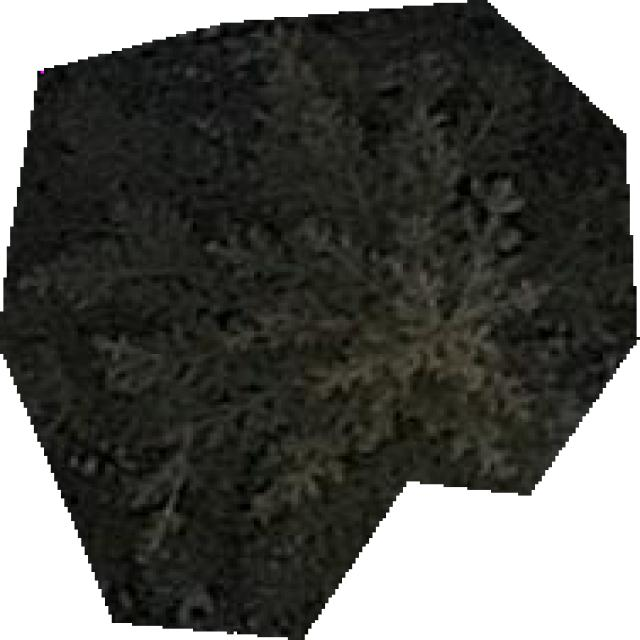spruce: (0, 0, 637, 637)
